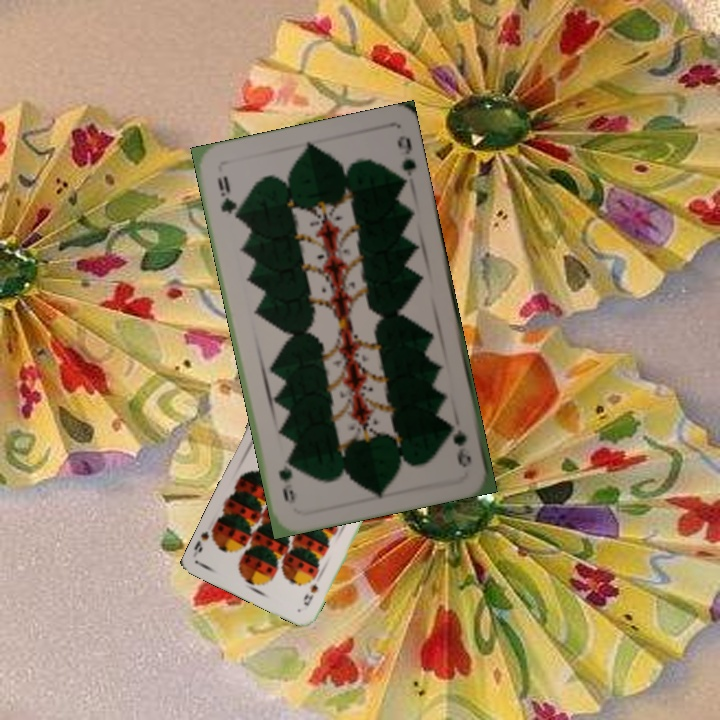G9: (446, 417, 474, 470), (213, 172, 240, 221)
S9: (299, 579, 321, 609)
